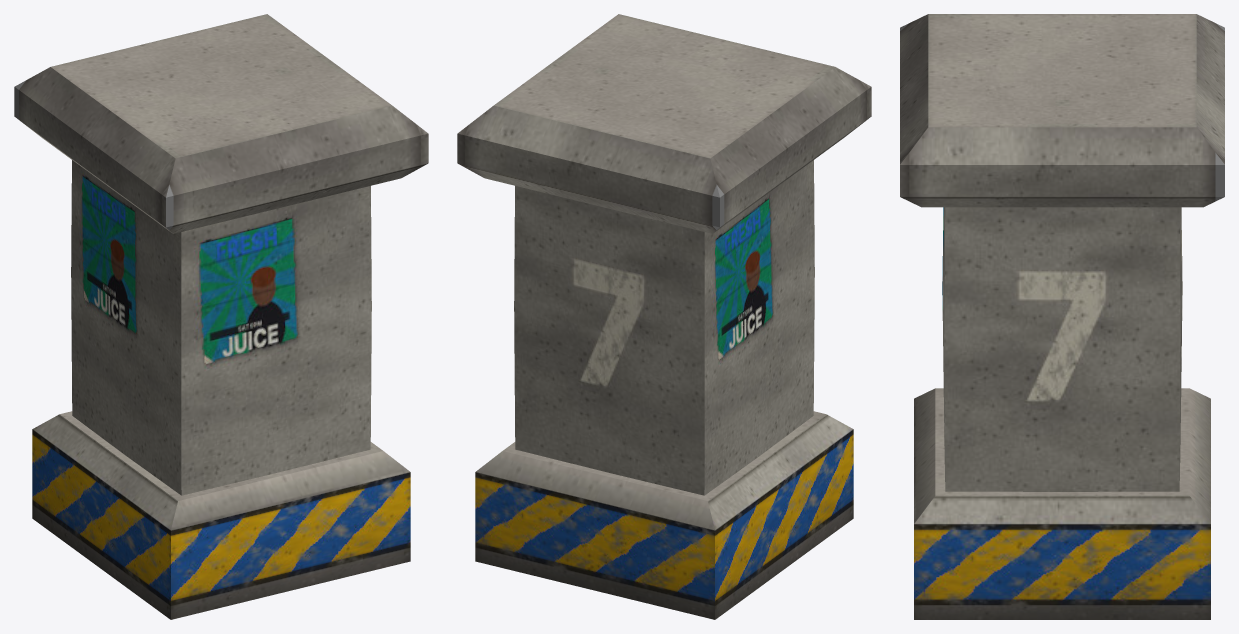
File: env_wall_corner.glb
The picture shows the model from 3 angles, left to right: view 1: azimuth 30°, elevation 25°; view 2: azimuth 150°, elevation 25°; view 3: azimuth 270°, elevation 25°; orthographic projection. The views are drawn at different scales.
Visible parts, largest first — view 1: env_wall_corner_body; view 2: env_wall_corner_body; view 3: env_wall_corner_body.
Boxes of the visible parts, <box> form: env_wall_corner_body: <box>14,14,428,619</box>; env_wall_corner_body: <box>457,14,871,619</box>; env_wall_corner_body: <box>900,14,1224,619</box>.
Size of the model in its own units: 0.46 by 0.76 by 0.46.
1 material, 1 textured.
